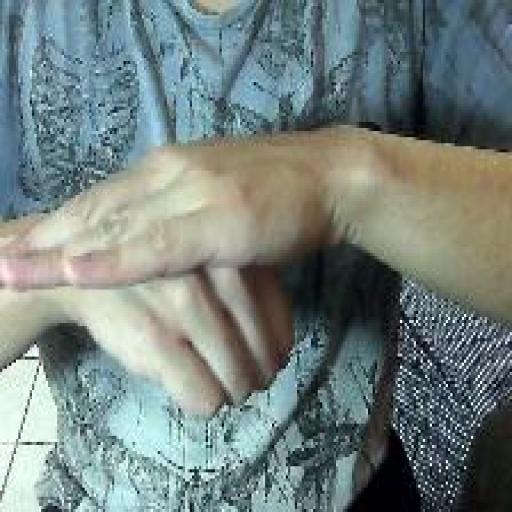Inu -dog-: (0, 131, 297, 427)
